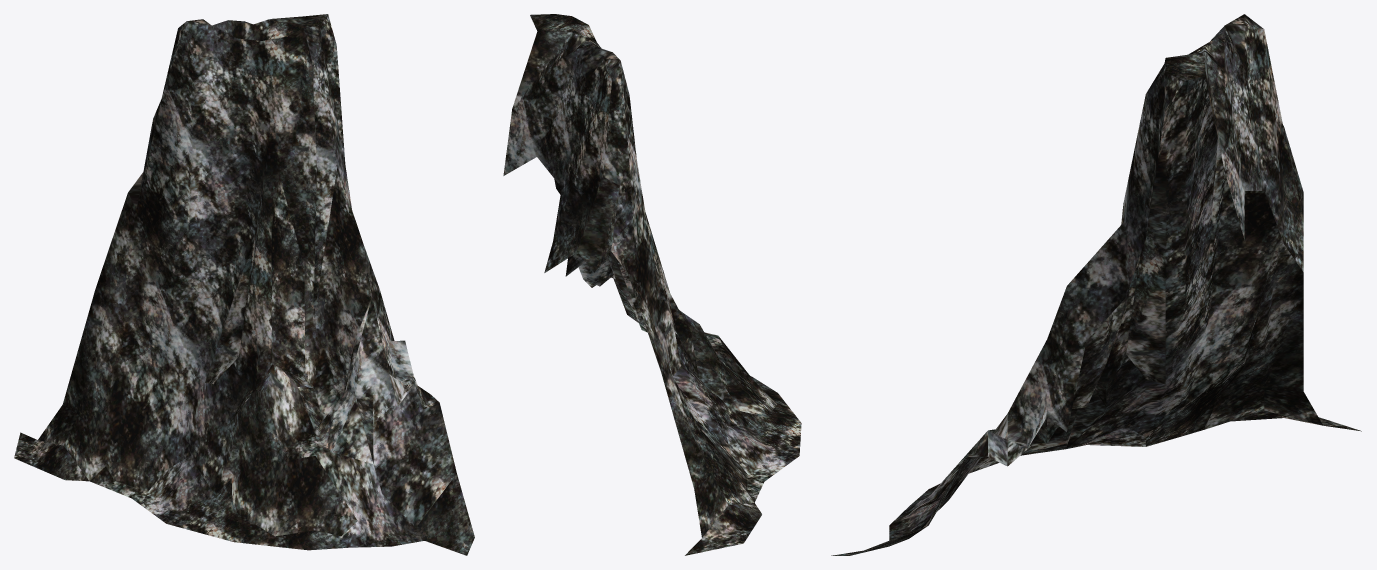
Rendered from OVERHILL_A_01_MOUNTAIN.fbx.
3 renders of one model, left to right at view 1: azimuth 30°, elevation 25°; view 2: azimuth 150°, elevation 25°; view 3: azimuth 270°, elevation 25°, orthographic. The views are drawn at different scales.
Visible parts, largest first — view 1: OVERHILL_A_01_MOUNTAIN; view 2: OVERHILL_A_01_MOUNTAIN; view 3: OVERHILL_A_01_MOUNTAIN.
Boxes of the visible parts, x1=… form: OVERHILL_A_01_MOUNTAIN: x1=14, y1=14, x2=474, y2=555; OVERHILL_A_01_MOUNTAIN: x1=503, y1=14, x2=801, y2=555; OVERHILL_A_01_MOUNTAIN: x1=831, y1=14, x2=1361, y2=555.
Bounding box in the file's own units: 232266 × 339246 × 336561.
Materials: 1 (1 with a texture image).
